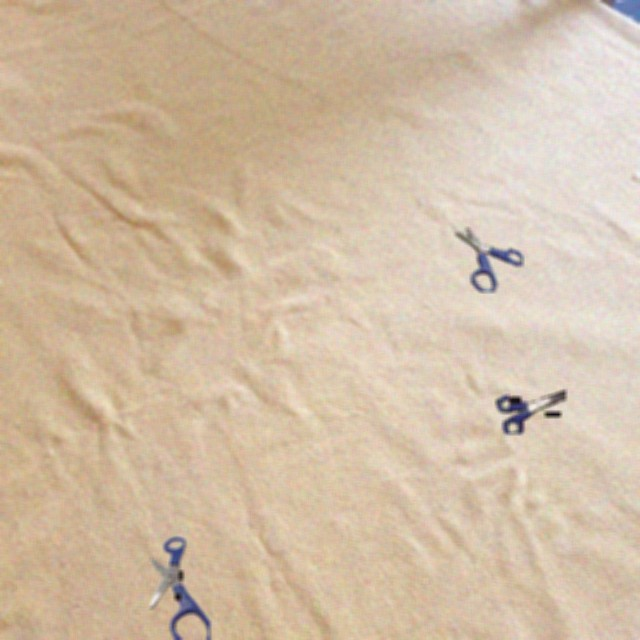scissors: (149, 537, 210, 640), (455, 228, 523, 292), (496, 390, 566, 434)
